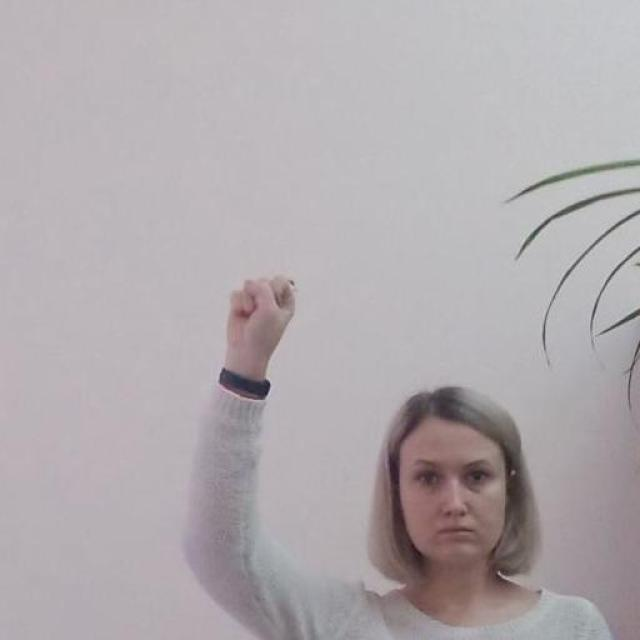hand: (222, 273, 296, 382)
